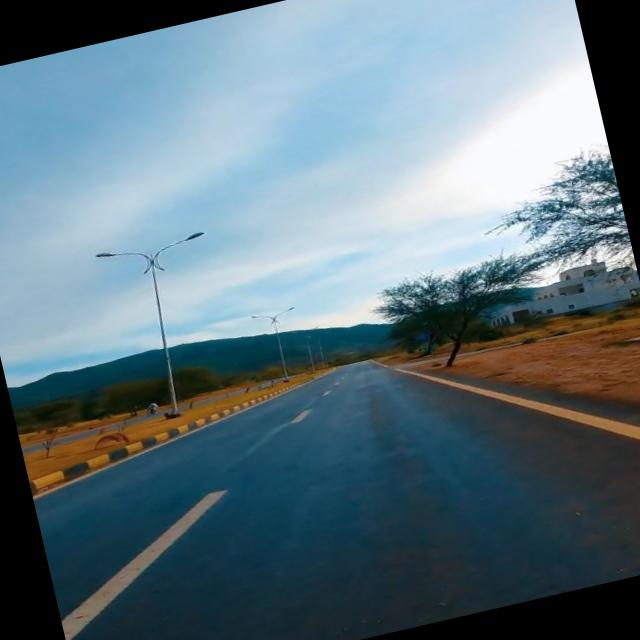asphalt: (33, 362, 640, 640)
grass: (379, 304, 640, 404), (124, 393, 249, 441), (23, 435, 118, 479)
